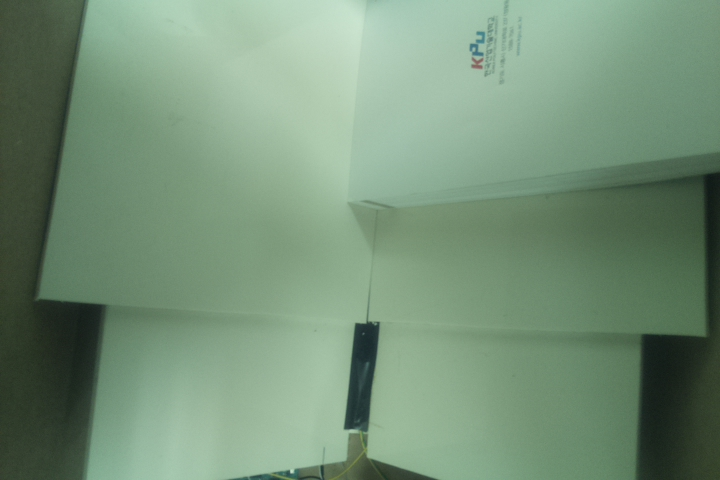book: (344, 1, 720, 215)
